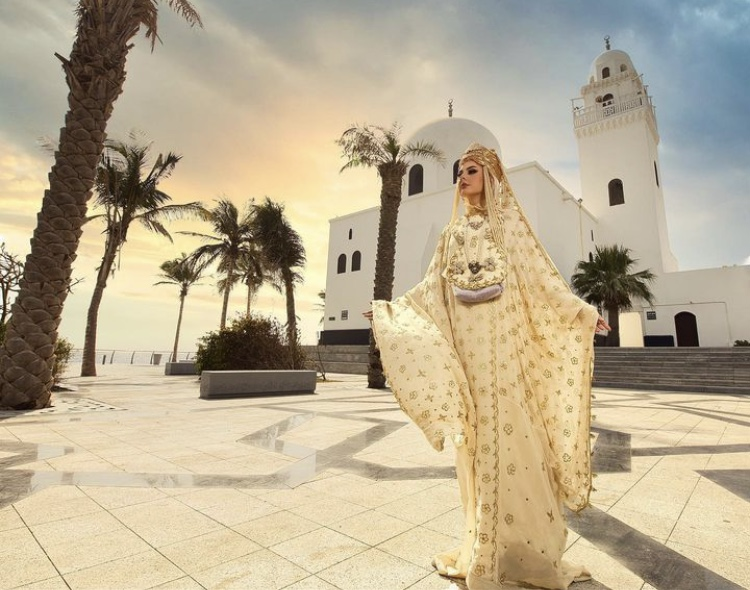Saudi_Founding_Day: (361, 138, 614, 588)
